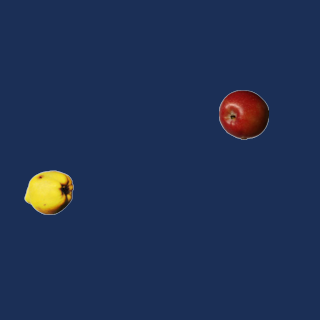Apple Braeburn: (218, 89, 268, 139)
Quince: (23, 167, 73, 217)
